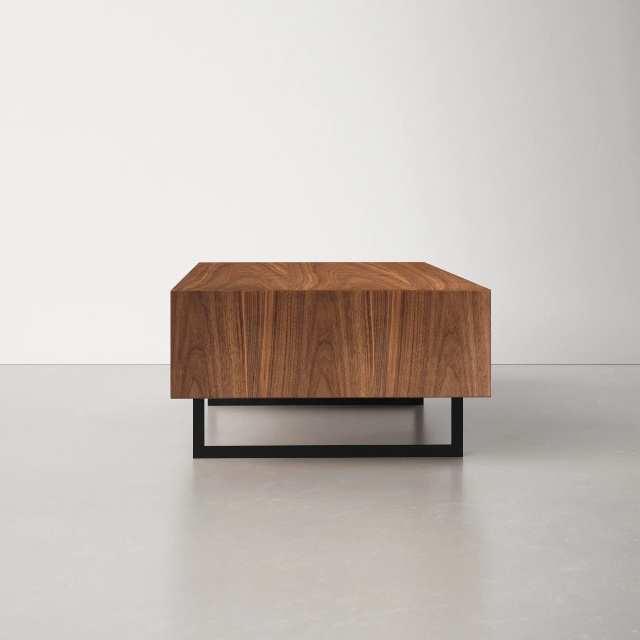obstacle: (171, 262, 490, 458)
